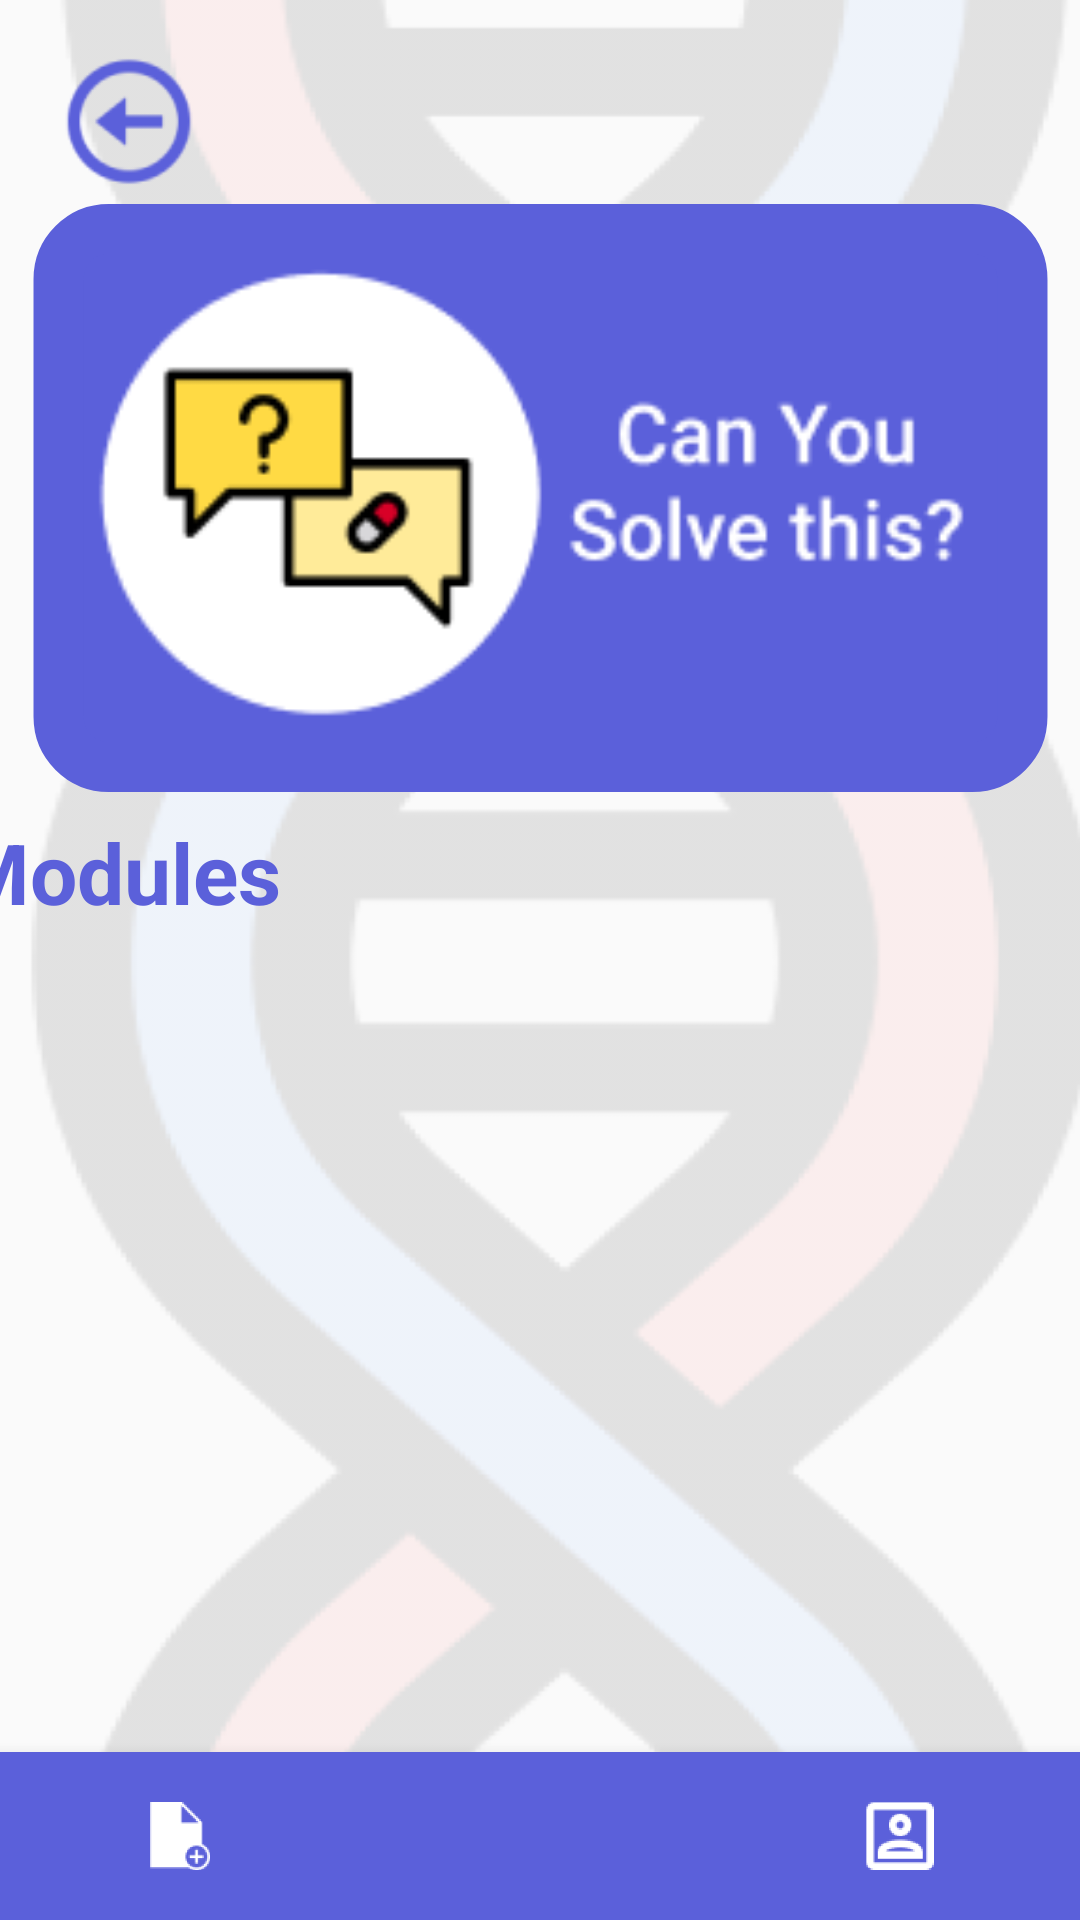

Locate icon controls on the screen. Image size 1080w x 1920h, boxes as (x1, y1, x2, y2).
back: (67, 48, 210, 195)
